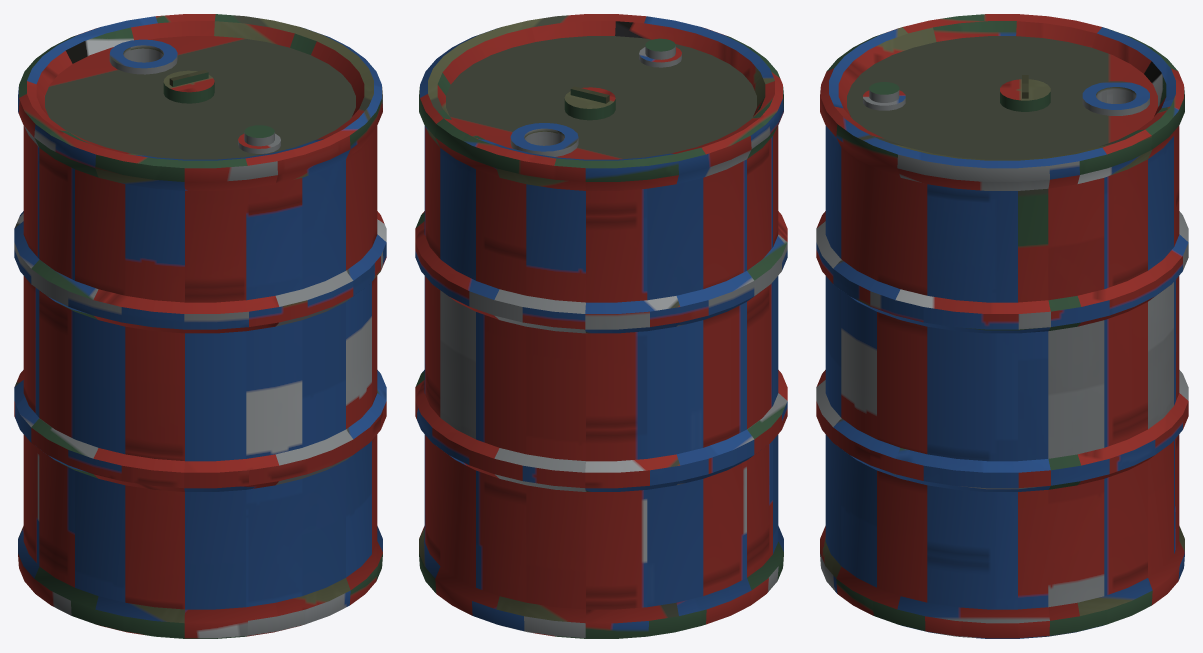
File: open.obj
The picture shows the model from 3 angles, left to right: view 1: azimuth 30°, elevation 25°; view 2: azimuth 150°, elevation 25°; view 3: azimuth 270°, elevation 25°; orthographic projection.
Parts seen in each view (by area): view 1: small_fuel_drum__body__shell, small_fuel_drum__open_bung__flange_ring, small_fuel_drum__body__bung_plug, small_fuel_drum__body__bungs; view 2: small_fuel_drum__body__shell, small_fuel_drum__body__bung_plug, small_fuel_drum__open_bung__flange_ring, small_fuel_drum__body__bungs; view 3: small_fuel_drum__body__shell, small_fuel_drum__open_bung__flange_ring, small_fuel_drum__body__bung_plug, small_fuel_drum__body__bungs.
Part boxes in pixels (x1,y1,x2,y2): small_fuel_drum__body__shell: [14, 14, 386, 638]; small_fuel_drum__open_bung__flange_ring: [109, 39, 177, 74]; small_fuel_drum__body__bung_plug: [163, 70, 214, 103]; small_fuel_drum__body__bungs: [244, 125, 274, 146]; small_fuel_drum__body__shell: [415, 14, 787, 638]; small_fuel_drum__body__bung_plug: [564, 86, 615, 120]; small_fuel_drum__open_bung__flange_ring: [510, 123, 578, 156]; small_fuel_drum__body__bungs: [645, 38, 675, 59]; small_fuel_drum__body__shell: [816, 14, 1188, 638]; small_fuel_drum__open_bung__flange_ring: [1082, 81, 1149, 115]; small_fuel_drum__body__bung_plug: [1000, 75, 1050, 111]; small_fuel_drum__body__bungs: [869, 82, 899, 102].
Bounding box in the file's own units: 0.5315 × 0.7596 × 0.5315.
